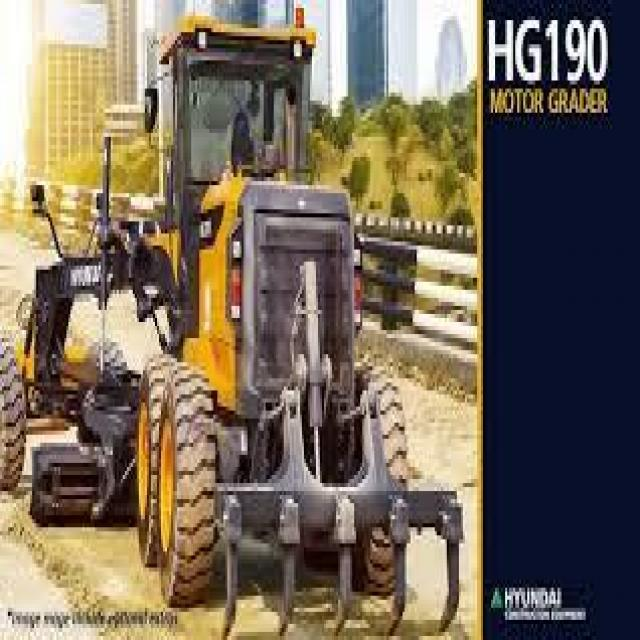Grader: (4, 20, 465, 628)
